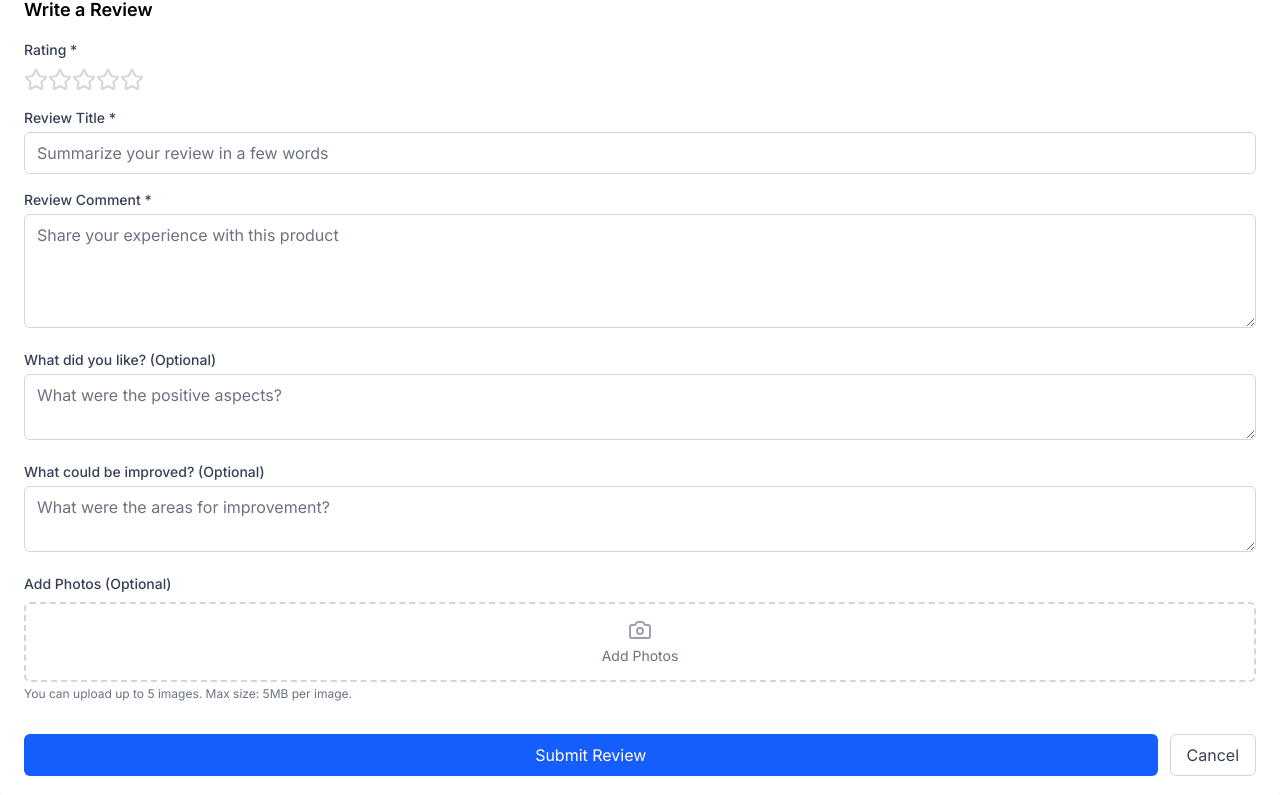
ReviewForm › validates required fields
(page scrolled)
Click the button "Submit Review".
click(591, 755)  # box [24,734,1158,776]
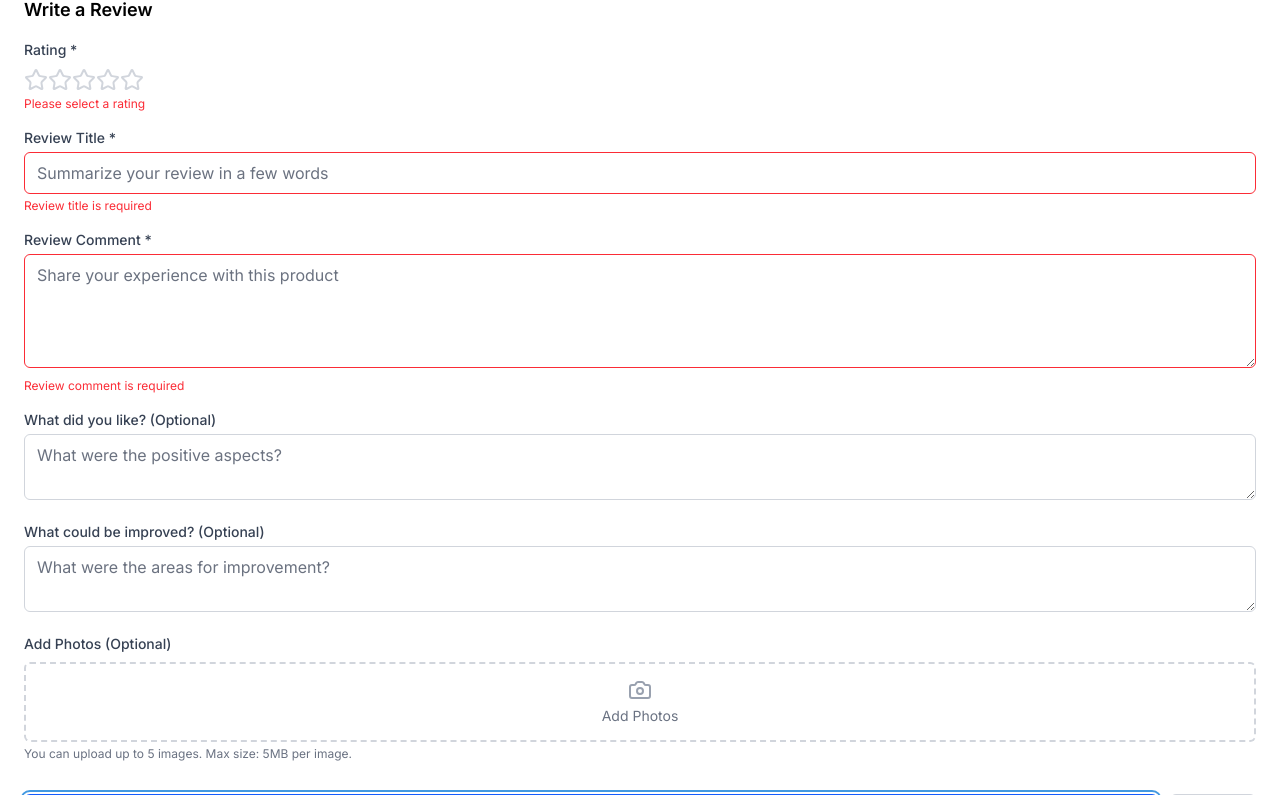
Check: the text "Please select a rating" is shown, box [24,96,145,111]
Check: the text "Review title is required" is shown, box [24,198,152,213]
Check: the text "Review comment is required" is shown, box [24,378,184,393]
